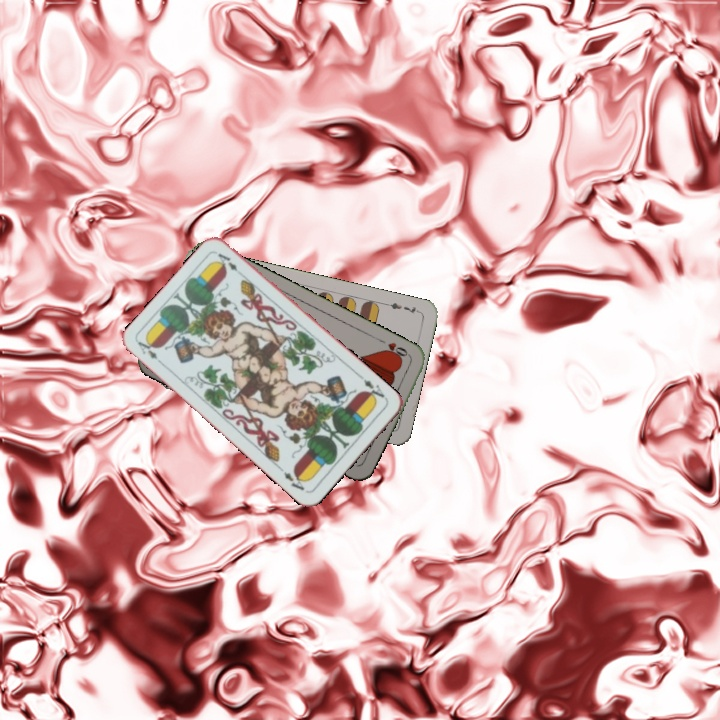E7: (383, 299, 423, 317)
EA: (356, 371, 390, 404), (134, 335, 167, 369)
HO: (375, 335, 413, 363)
